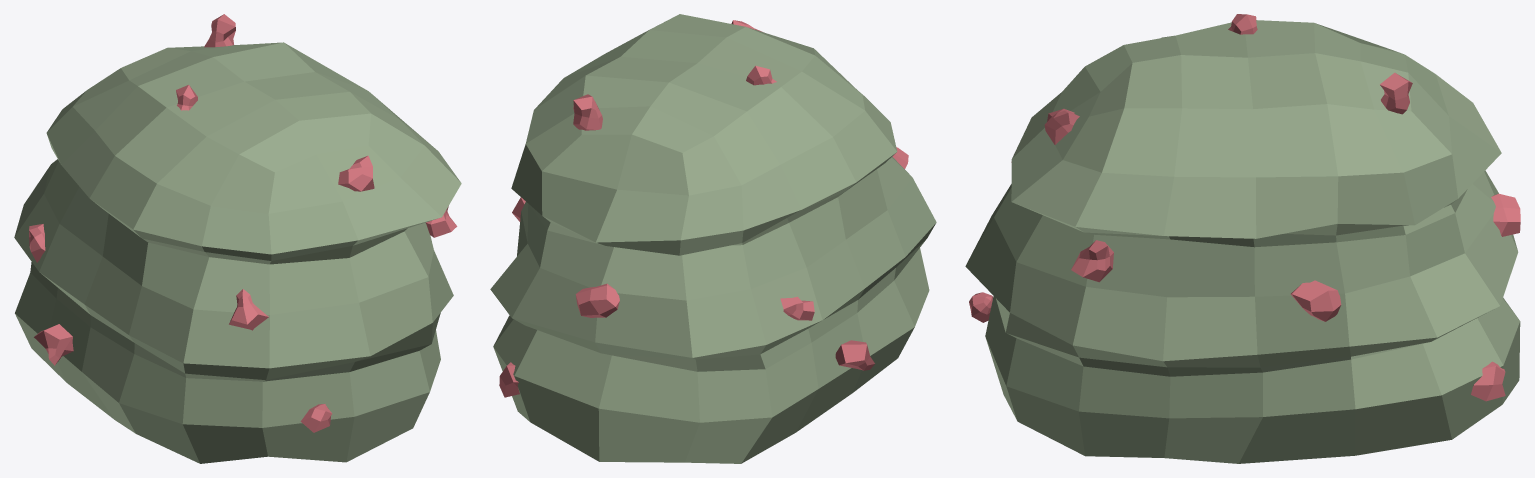
File: model_bush-berries.glb
The picture shows the model from 3 angles, left to right: view 1: azimuth 30°, elevation 25°; view 2: azimuth 150°, elevation 25°; view 3: azimuth 270°, elevation 25°; orthographic projection. The views are drawn at different scales.
Visible parts, largest first — view 1: BushBerries_1; view 2: BushBerries_1; view 3: BushBerries_1.
Part boxes in pixels (<box>): BushBerries_1: <box>14,14,461,463</box>; BushBerries_1: <box>490,14,936,463</box>; BushBerries_1: <box>965,14,1520,463</box>.
Bounding box in the file's own units: 1.39 × 1.28 × 1.72.
